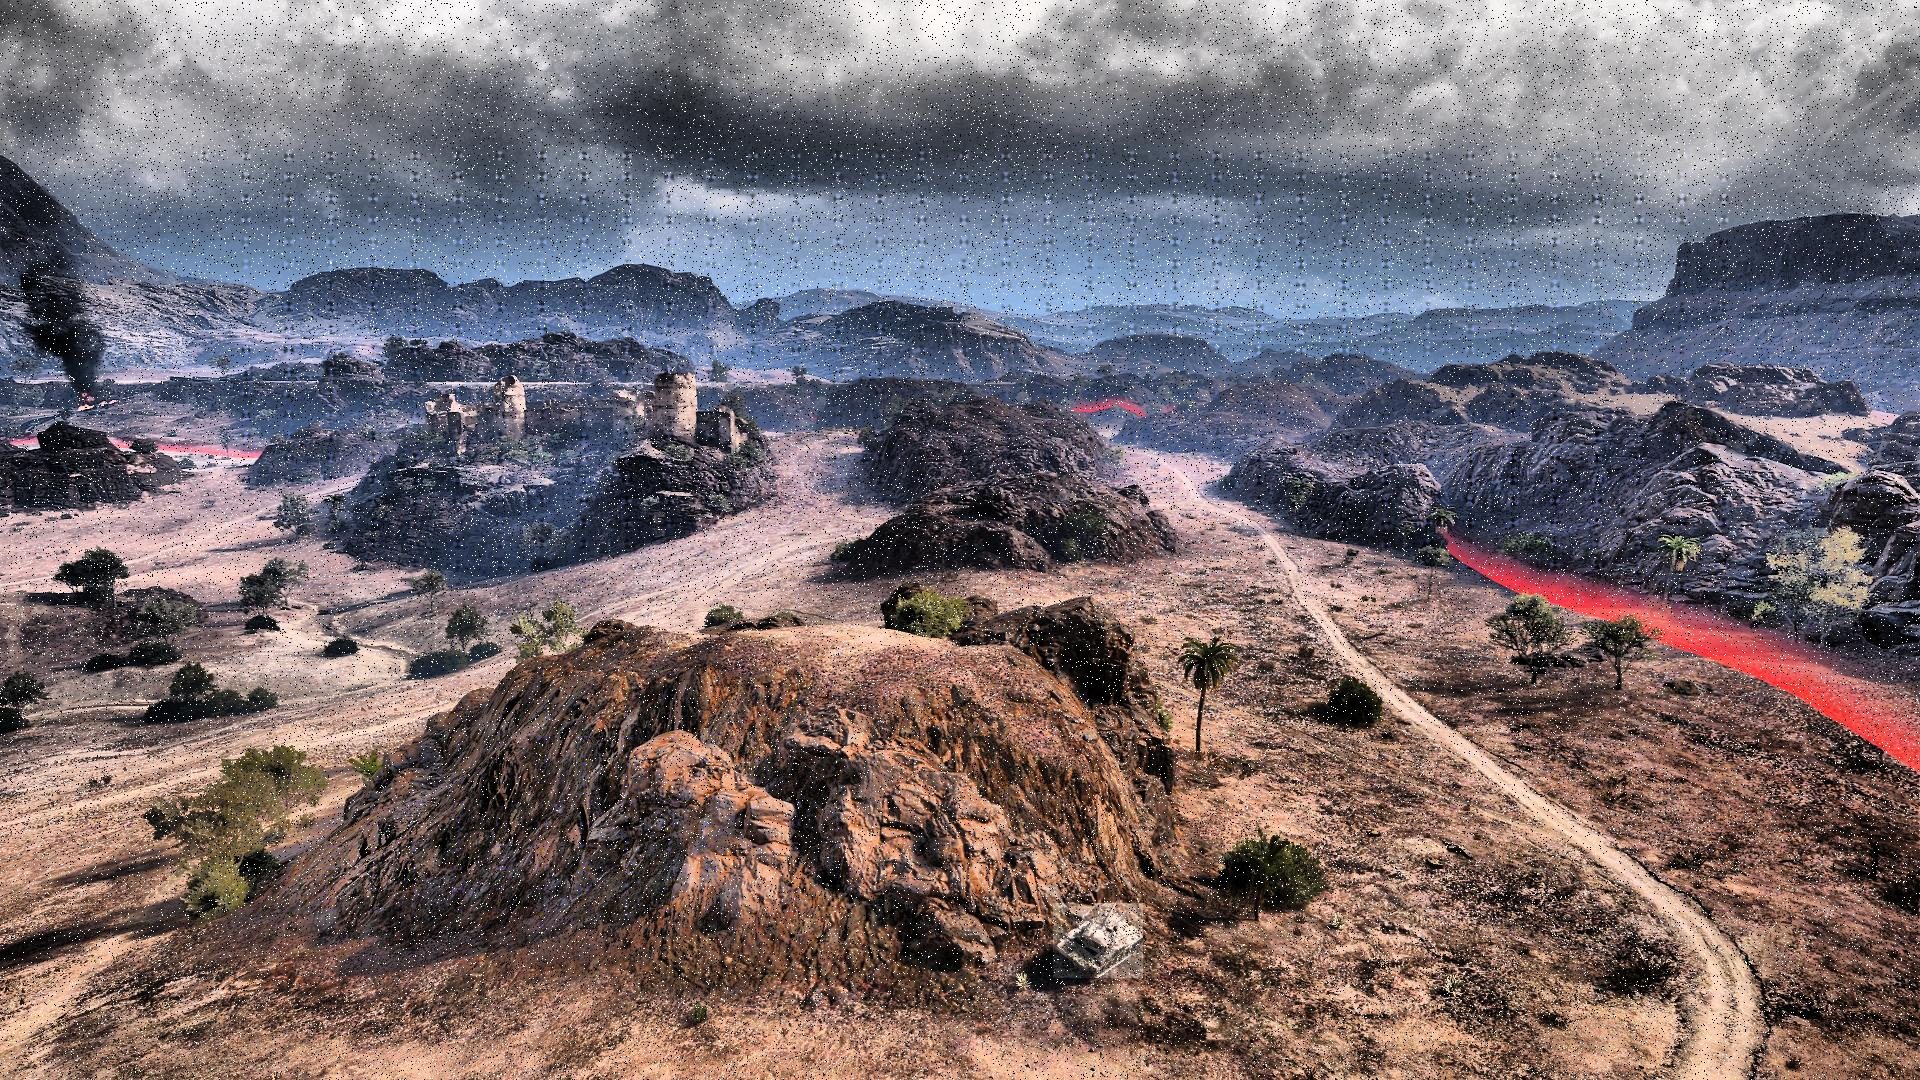military-vehicle: (1054, 903, 1143, 978)
